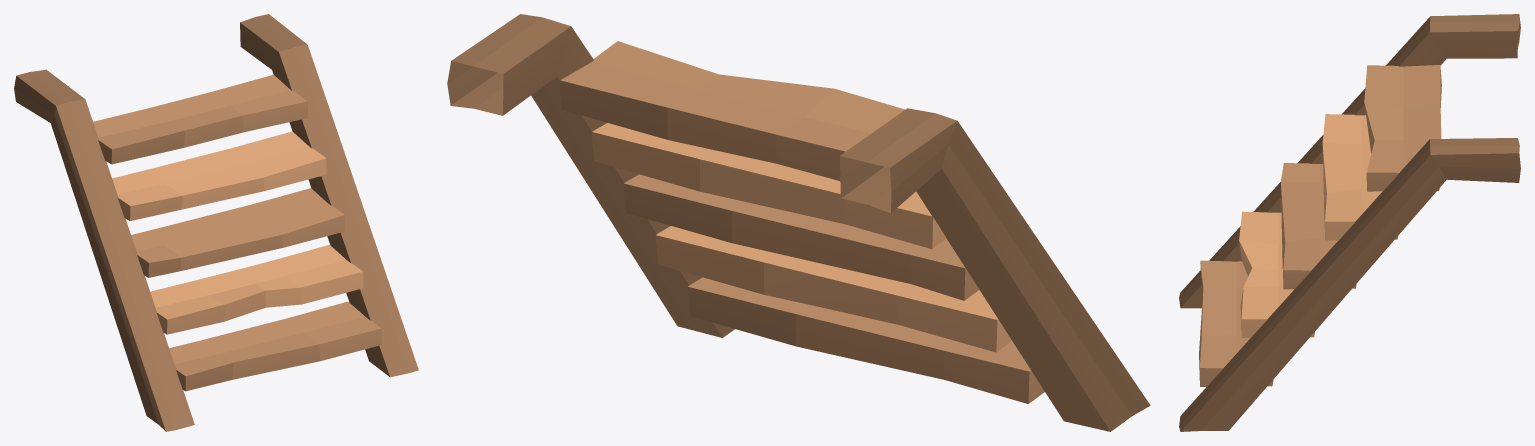
Rendered from steps-2.glb.
3 renders of one model, left to right at view 1: azimuth 30°, elevation 25°; view 2: azimuth 150°, elevation 25°; view 3: azimuth 270°, elevation 25°, orthographic. The views are drawn at different scales.
Parts seen in each view (by area): view 1: steps 2; view 2: steps 2; view 3: steps 2.
Boxes of the visible parts, x1=… form: steps 2: x1=14, y1=14, x2=418, y2=431; steps 2: x1=447, y1=14, x2=1150, y2=431; steps 2: x1=1179, y1=14, x2=1520, y2=431.
Bounding box in the file's own units: 2.31 × 2.13 × 2.36.
1 material, 1 textured.
